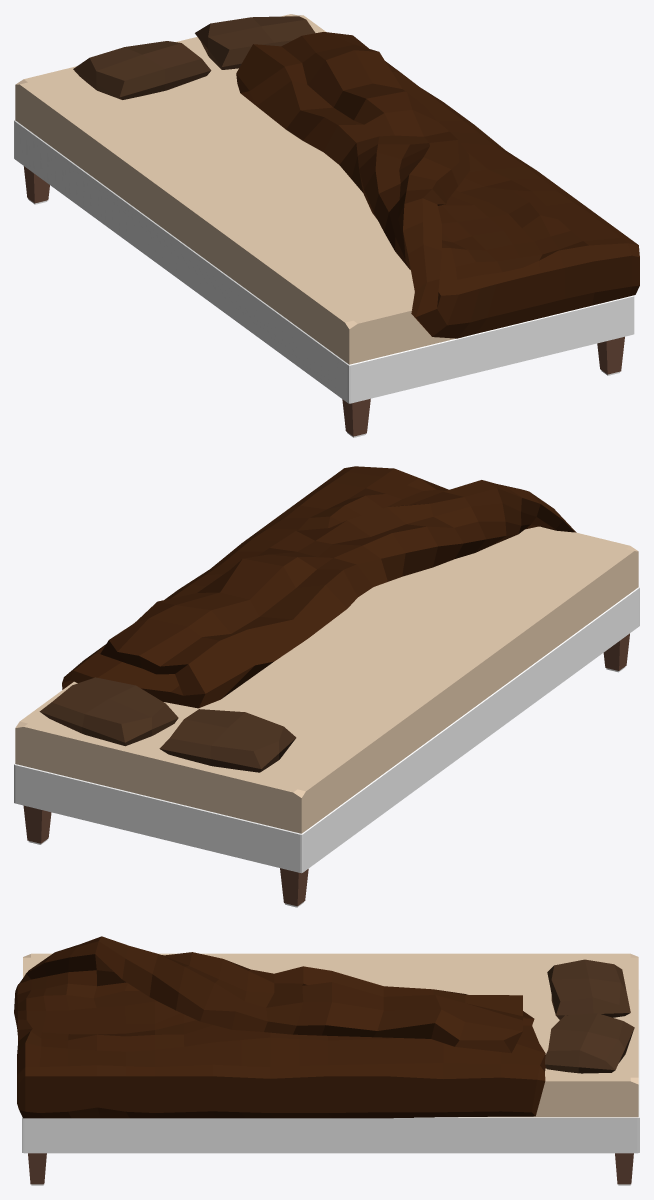
File: bed.glb
3 renders of one model, top to bottom at view 1: azimuth 30°, elevation 25°; view 2: azimuth 150°, elevation 25°; view 3: azimuth 270°, elevation 25°, orthographic. The views are drawn at different scales.
Parts seen in each view (by area): view 1: oreiller; view 2: oreiller; view 3: oreiller.
Boxes of the visible parts, x1=… form: oreiller: x1=14, y1=14, x2=639, y2=437; oreiller: x1=14, y1=466, x2=639, y2=907; oreiller: x1=14, y1=936, x2=639, y2=1185.
Bounding box in the file's own units: 1.45 × 0.8872 × 2.92.
